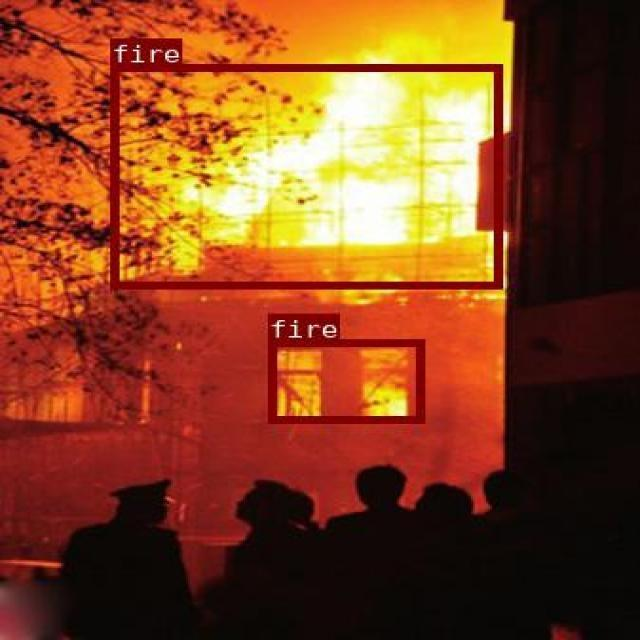fire: (108, 64, 501, 288), (267, 338, 423, 421)
